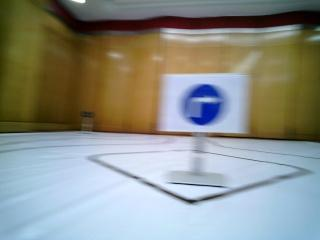right: (167, 76, 247, 129)
